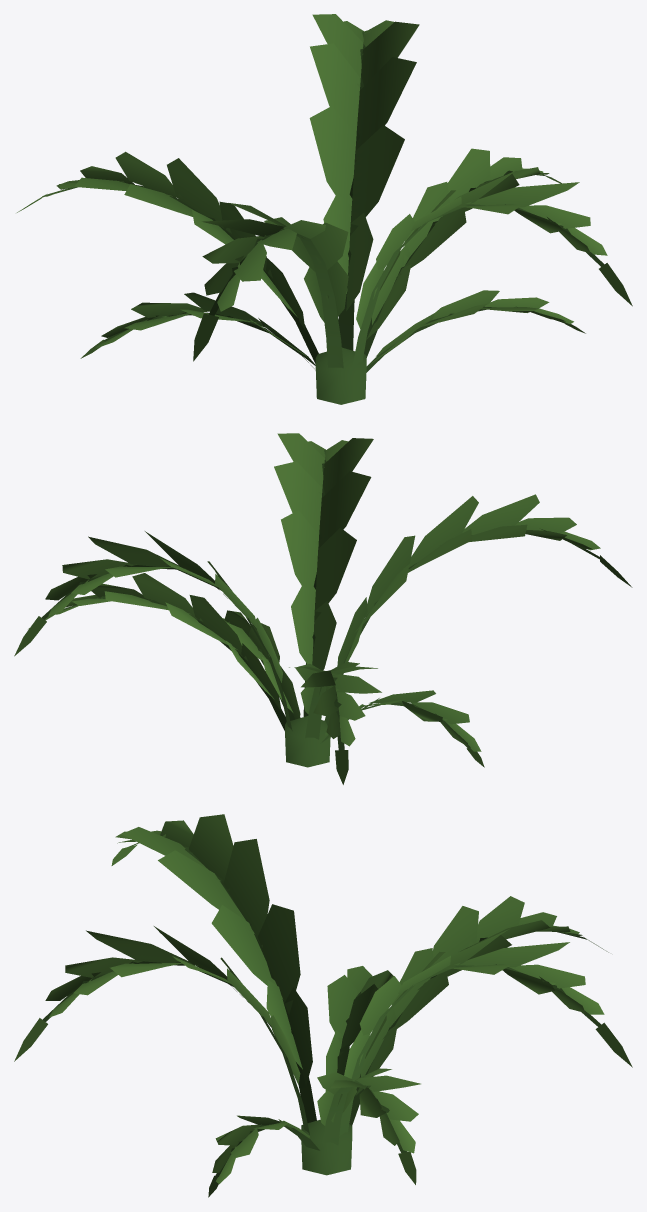
The model's file is fern_A.glb.
3 renders of one model, top to bottom at view 1: azimuth 30°, elevation 25°; view 2: azimuth 150°, elevation 25°; view 3: azimuth 270°, elevation 25°, orthographic. The views are drawn at different scales.
Visible parts, largest first — view 1: fern_A; view 2: fern_A; view 3: fern_A.
Boxes of the visible parts, x1=… form: fern_A: x1=17, y1=14, x2=632, y2=404; fern_A: x1=14, y1=433, x2=632, y2=784; fern_A: x1=14, y1=814, x2=632, y2=1197.
Bounding box in the file's own units: 1.08 × 0.5286 × 1.1.
